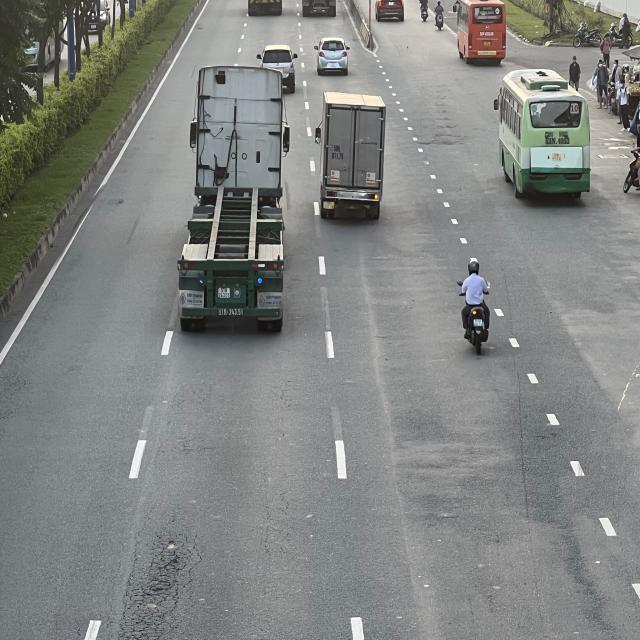car: (315, 38, 350, 77), (376, 0, 405, 23)
coach: (495, 72, 593, 200), (459, 0, 508, 65)
container: (182, 61, 294, 330)
truck: (316, 93, 387, 219)
